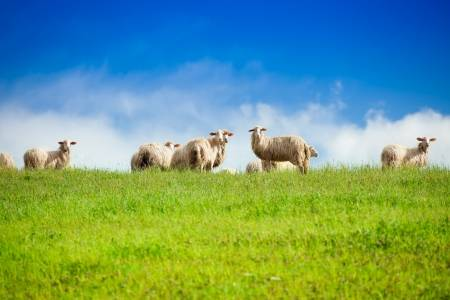sheep: (244, 121, 310, 174), (181, 122, 237, 171), (376, 133, 438, 173), (21, 132, 77, 172), (128, 137, 178, 172)
